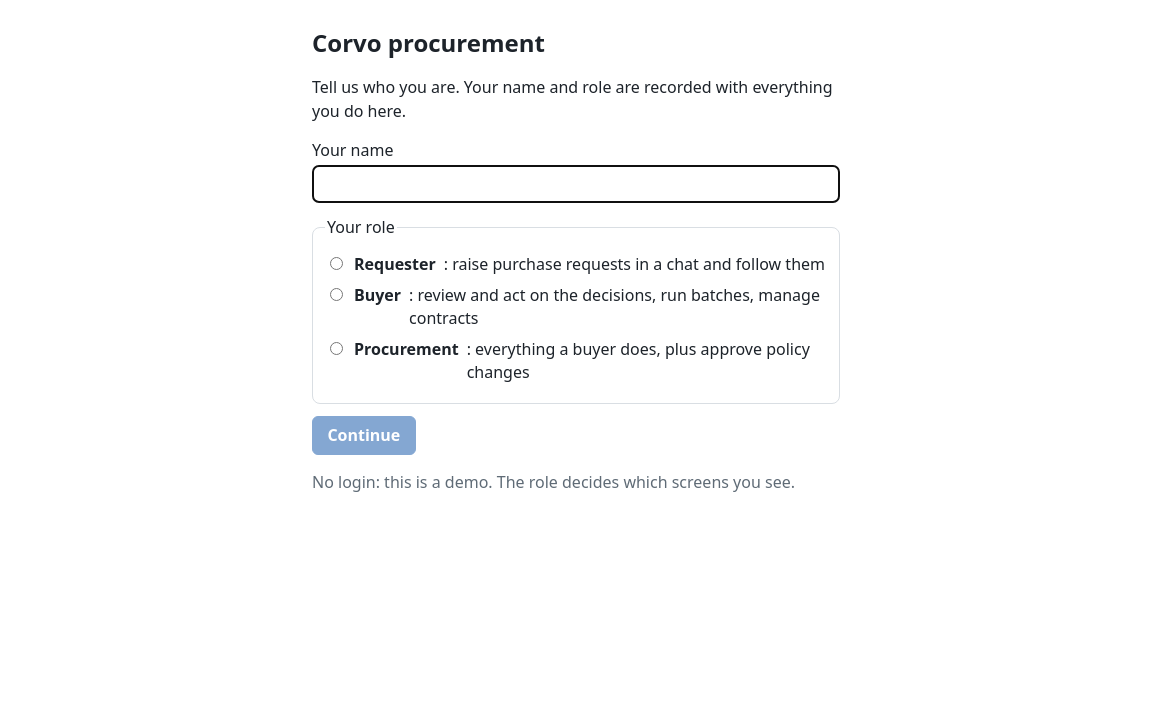
it: identity (B1) › asks for a name and a role first, and Continue needs both
This screenshot has width=1152, height=720.
Expected: the button "Continue" is disabled, x1=312 y1=416 x2=416 y2=455
Type "Ravi" into the field labelled "Your name". click: (576, 184)
box: x1=312 y1=165 x2=840 y2=203
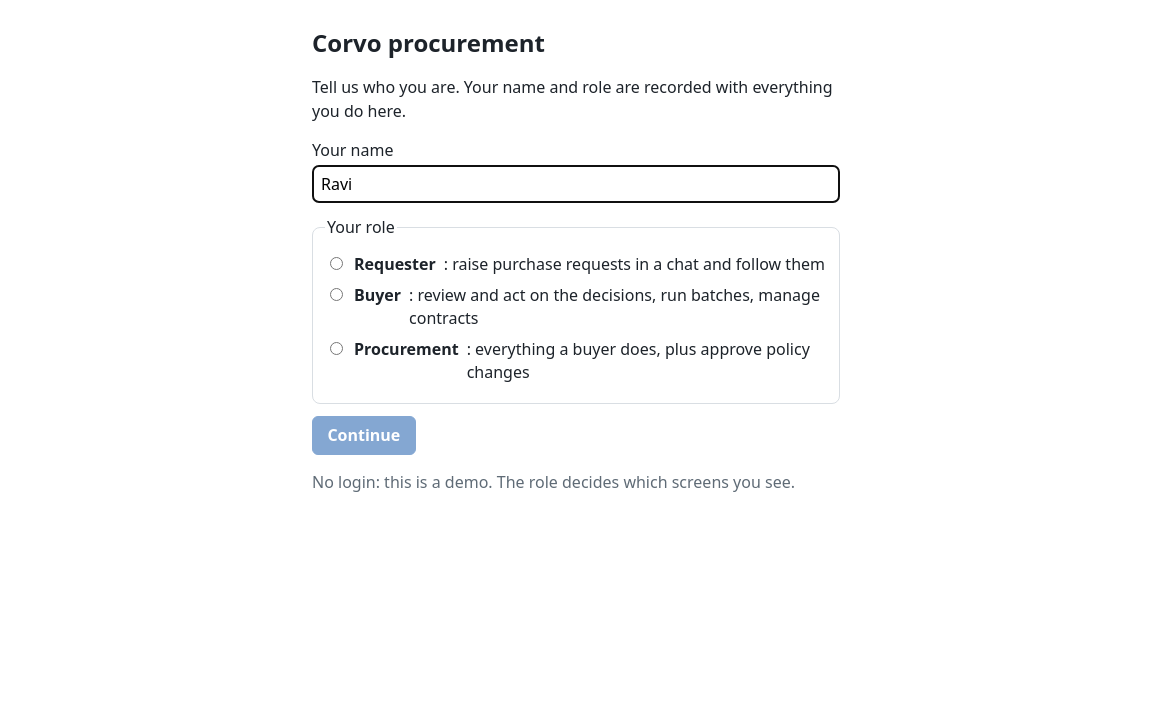
Expected: the button "Continue" is disabled, x1=312 y1=416 x2=416 y2=455
Click the radio button labelled "Buyer". click: (336, 294)
box: x1=330 y1=288 x2=343 y2=301
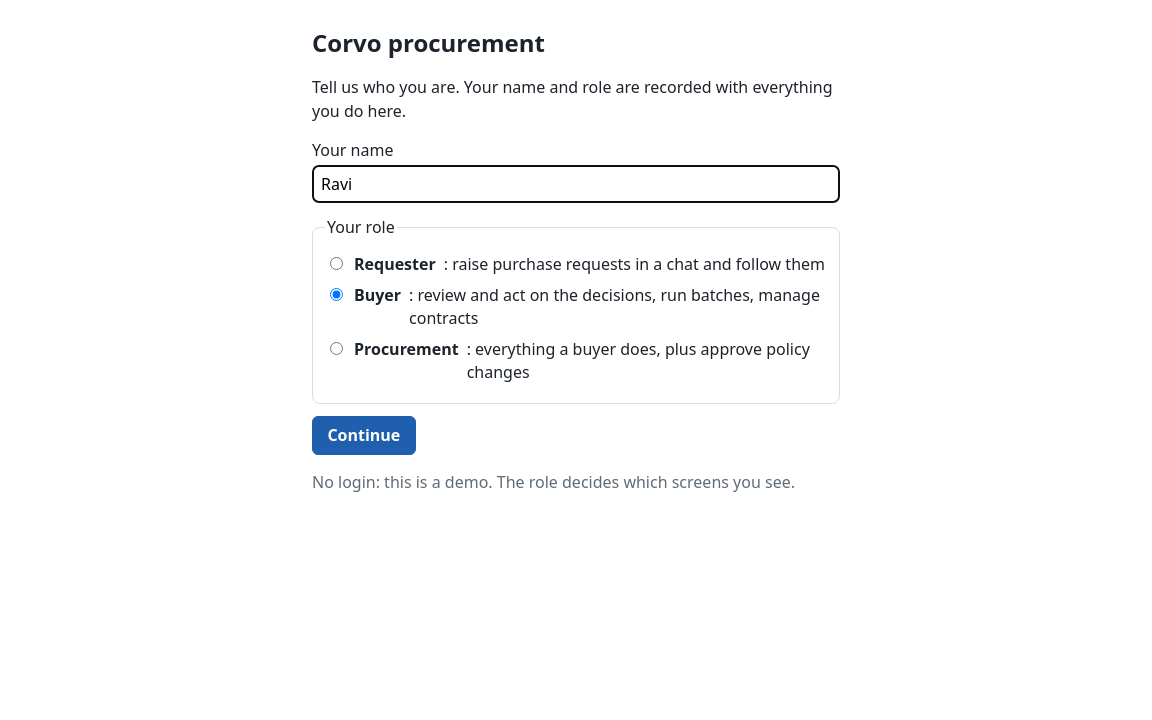
Now the button "Continue" is enabled
Click the button "Continue". click: (364, 436)
box: x1=312 y1=416 x2=416 y2=455
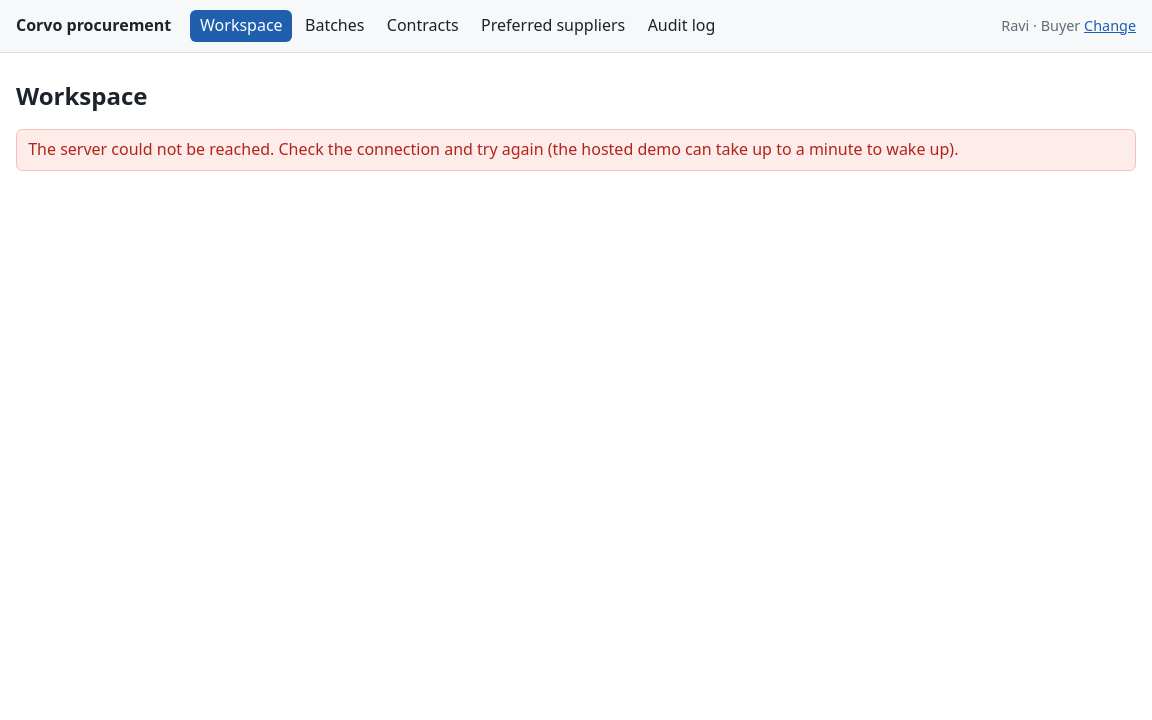
Now the text "Ravi · Buyer Change" is shown, box x1=1001 y1=16 x2=1136 y2=36
